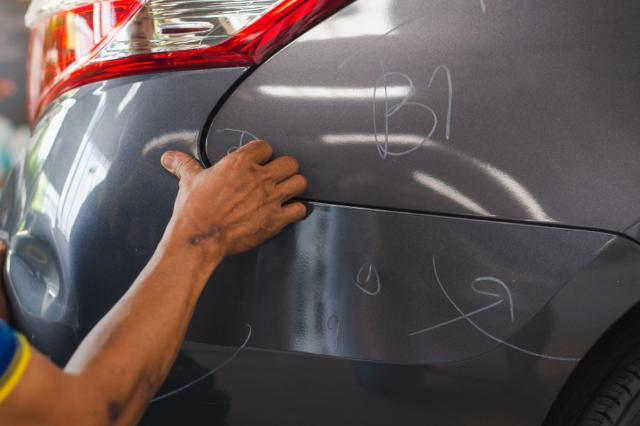Bumper: (0, 207, 580, 391)
Fender: (221, 8, 611, 199)
